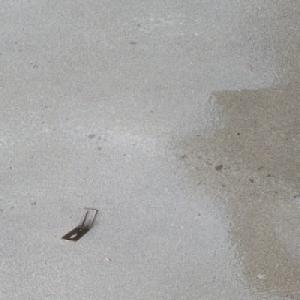MetalPart: (60, 207, 98, 242)
